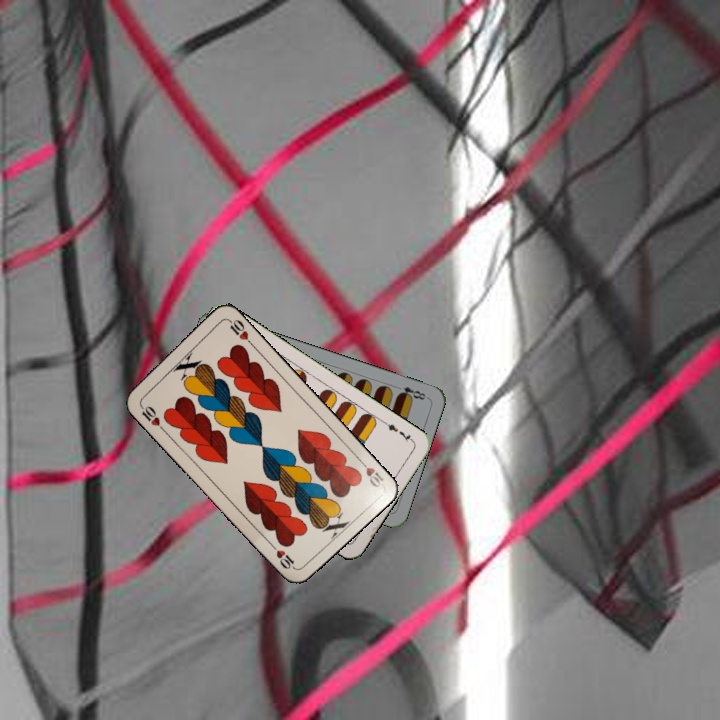E7: (380, 417, 416, 445)
E8: (394, 382, 430, 403)
H10: (354, 454, 387, 490), (136, 400, 167, 433)
